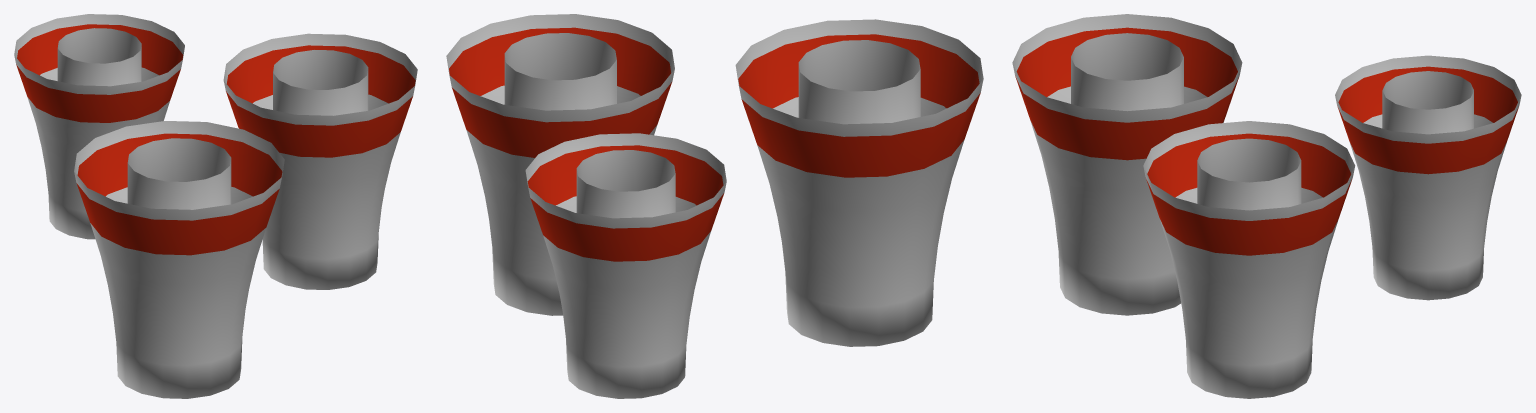
Rendered from nuclear.fbx.
3 renders of one model, left to right at view 1: azimuth 30°, elevation 25°; view 2: azimuth 150°, elevation 25°; view 3: azimuth 270°, elevation 25°, orthographic. The views are drawn at different scales.
Visible parts, largest first — view 1: Circle; view 2: Circle; view 3: Circle.
Boxes of the visible parts, bbox=[...] form: Circle: bbox=[14, 14, 417, 398]; Circle: bbox=[446, 14, 983, 398]; Circle: bbox=[1012, 14, 1521, 398].
Bounding box in the file's own units: 314 × 171 × 341.
